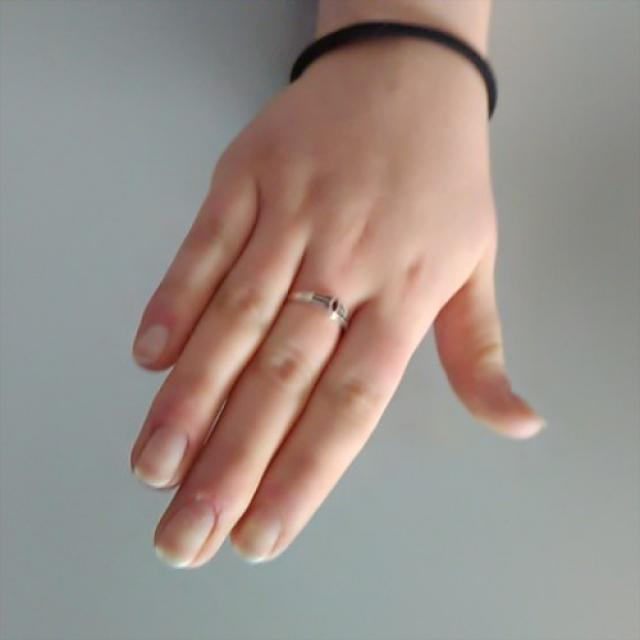paper: (131, 102, 543, 570)
